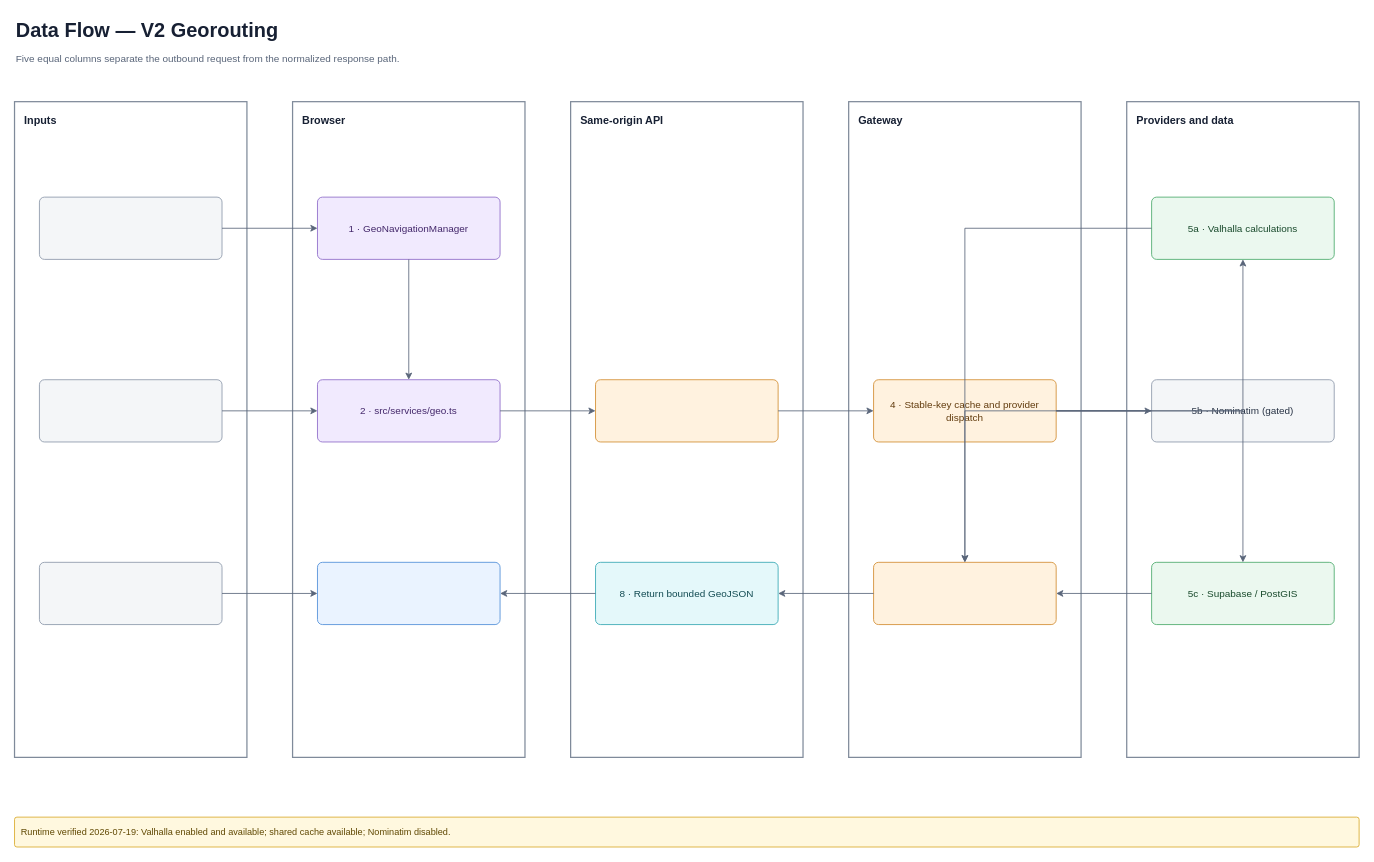
This 1374x862 diagram has some shape labels left out. The shapes that lost their labels are listed below. From the top down, each one's centre as x and y in pixels, then its label:
the point at 130,227: A/B + profile
the point at 130,410: GPS or map coordinate
the point at 686,410: 3 · Validate, authenticate and rate-limit
the point at 130,593: Bounds, place or job ID
the point at 408,593: 9 · GeoRouteRenderer + MapLibre
the point at 964,593: 7 · Normalize or label fallback
